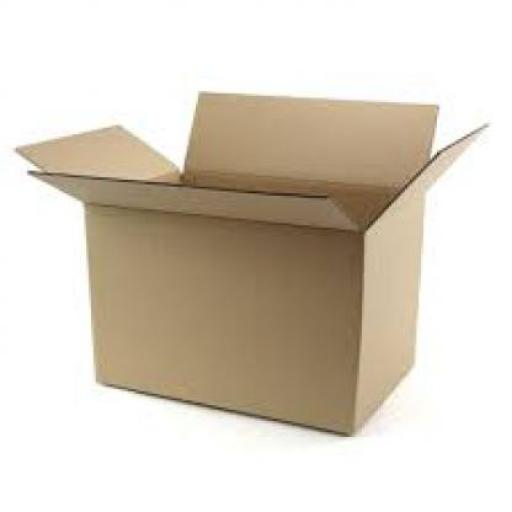cardboard: (11, 91, 487, 435)
